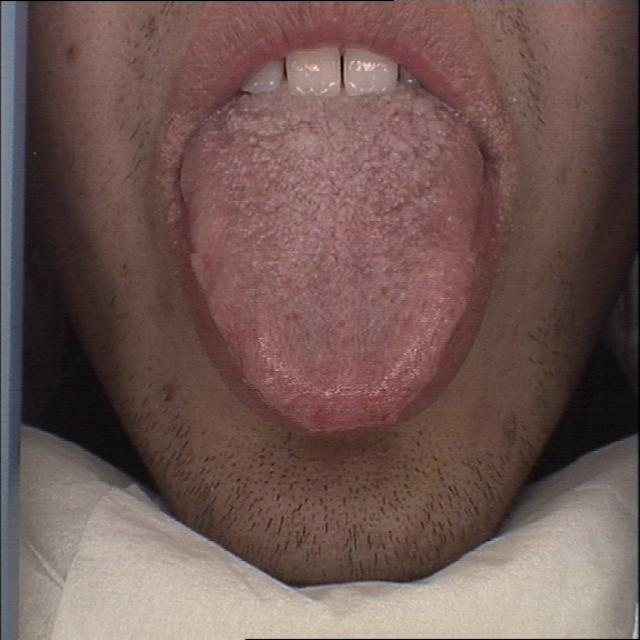tongue: (177, 96, 505, 445)
